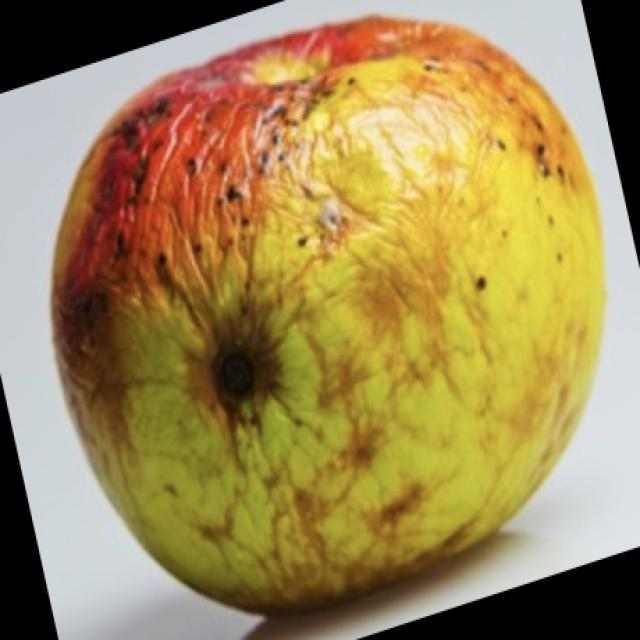Rotten: (65, 17, 588, 608)
